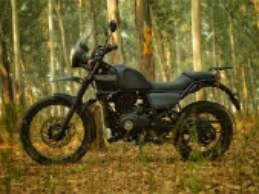Vehicle: (15, 18, 243, 166)
